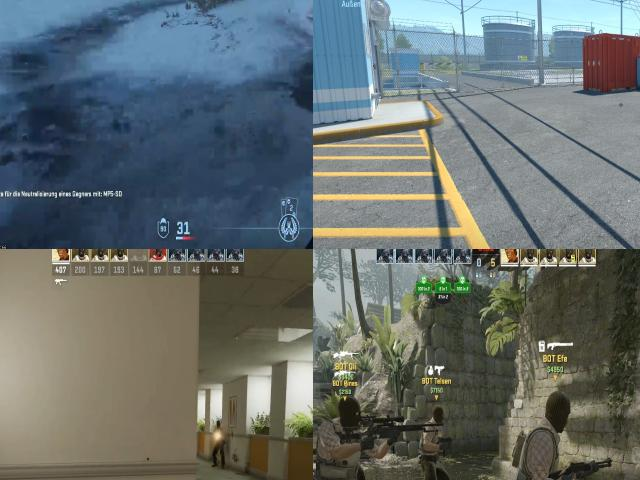Bomb: (506, 426, 530, 478)
T: (509, 380, 583, 480), (313, 388, 380, 480), (415, 398, 455, 480), (213, 417, 227, 450)
T-Head: (540, 384, 576, 436), (335, 396, 370, 429), (429, 405, 447, 424), (214, 420, 224, 432)
